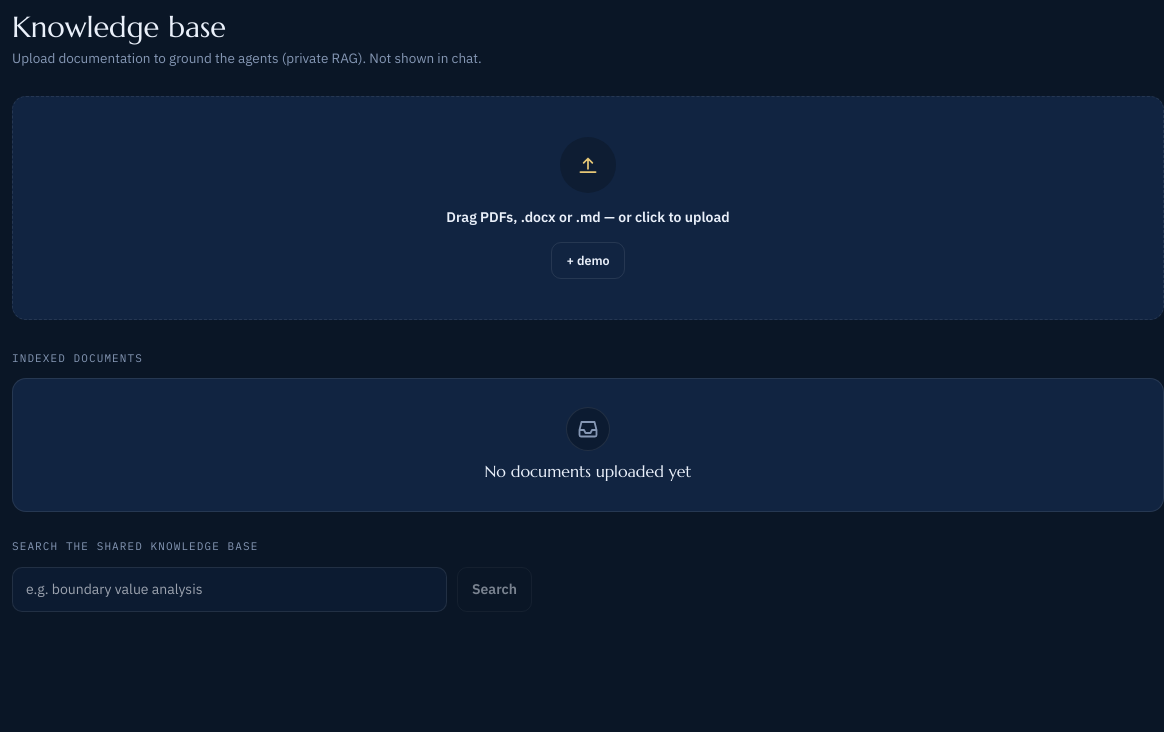
Test: KnowledgeScreen › shows an error when the search fails
In the field named "Search query": (230, 589) [12, 567, 447, 612], type "x"
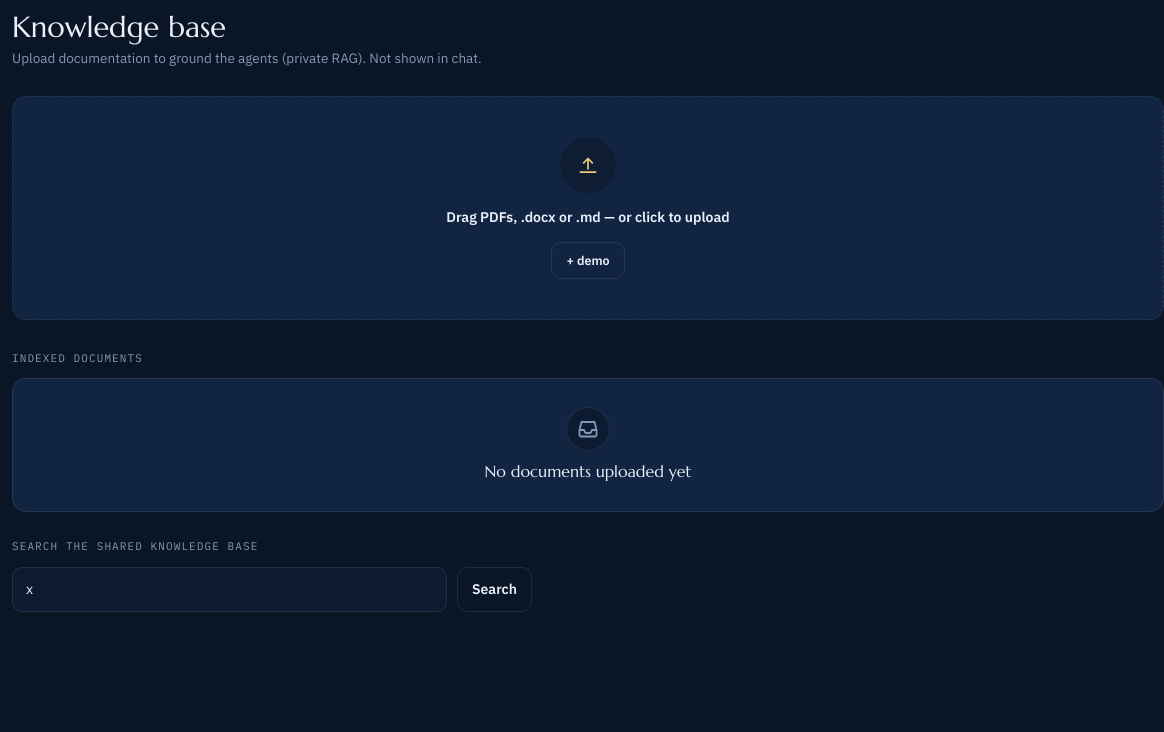
Click the button "Search": click(494, 589) [457, 567, 532, 612]
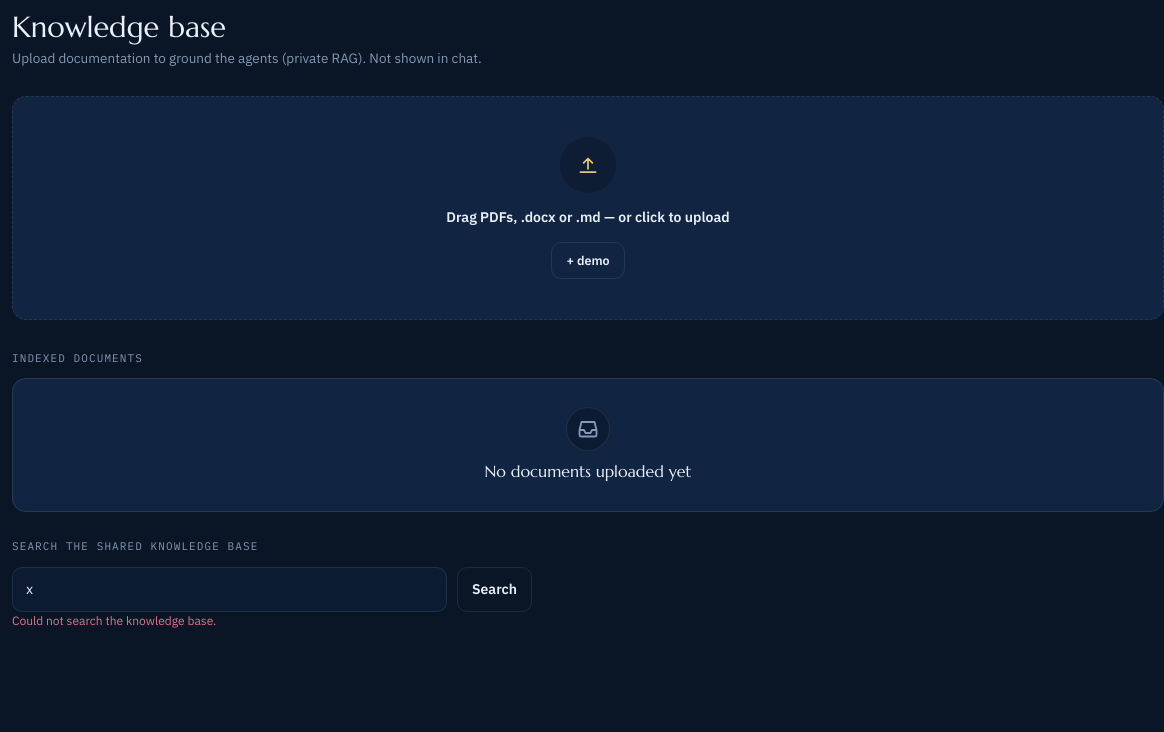
Check: the message reads "Could not search the knowledge base.", box [12, 613, 216, 628]
